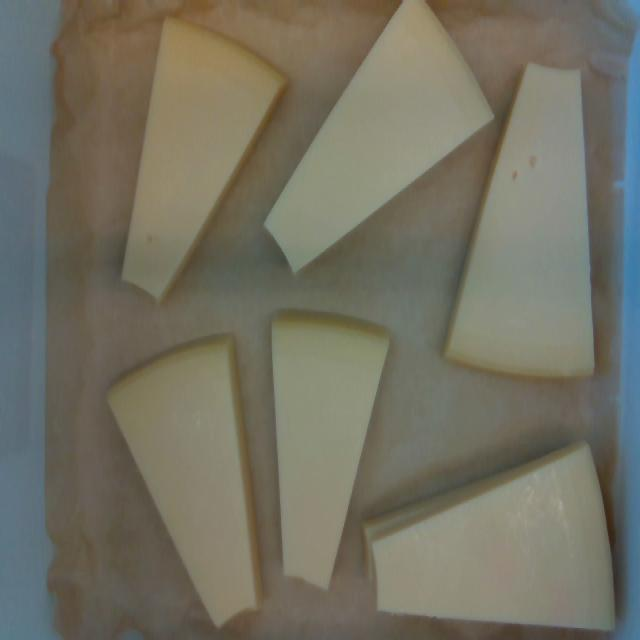Cheese: (265, 0, 491, 271), (446, 64, 593, 377), (366, 444, 613, 628), (123, 20, 281, 299), (111, 339, 259, 623), (272, 320, 388, 588)
